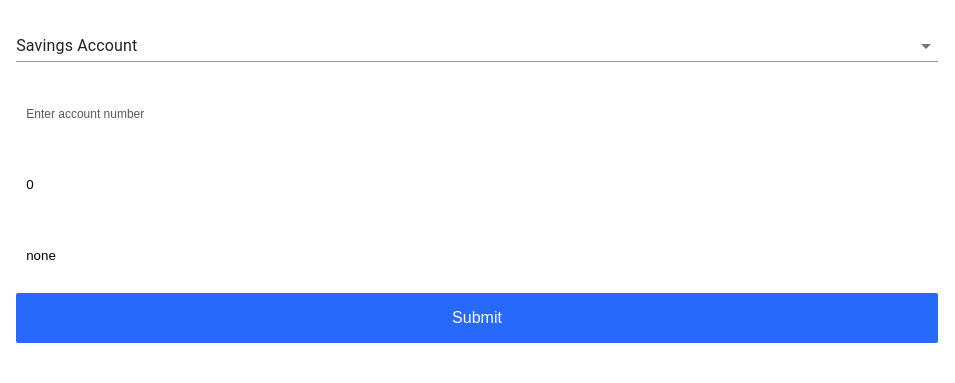
it: transfer › invalid amount
Replace the text in the field named "amount" with "hi@" at (477, 184), box [16,164,938,204]
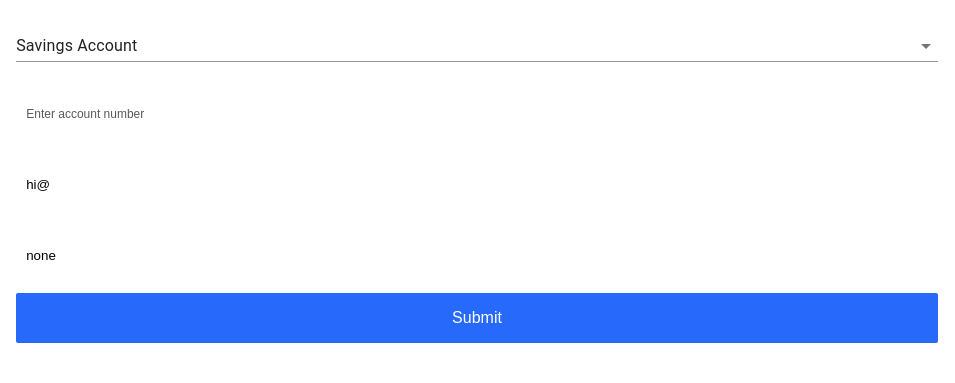
Click the button "Submit" at (477, 318), box [16,293,938,343]
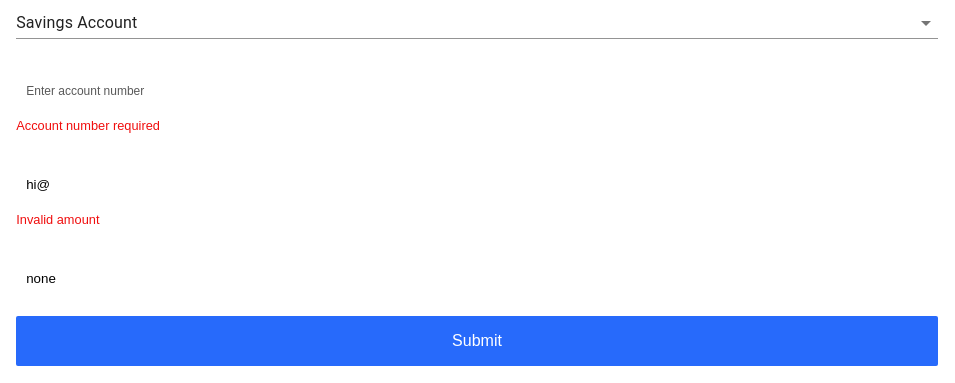
Check: the text named "invalid-amount" reads "Invalid amount", box [16,212,99,227]
